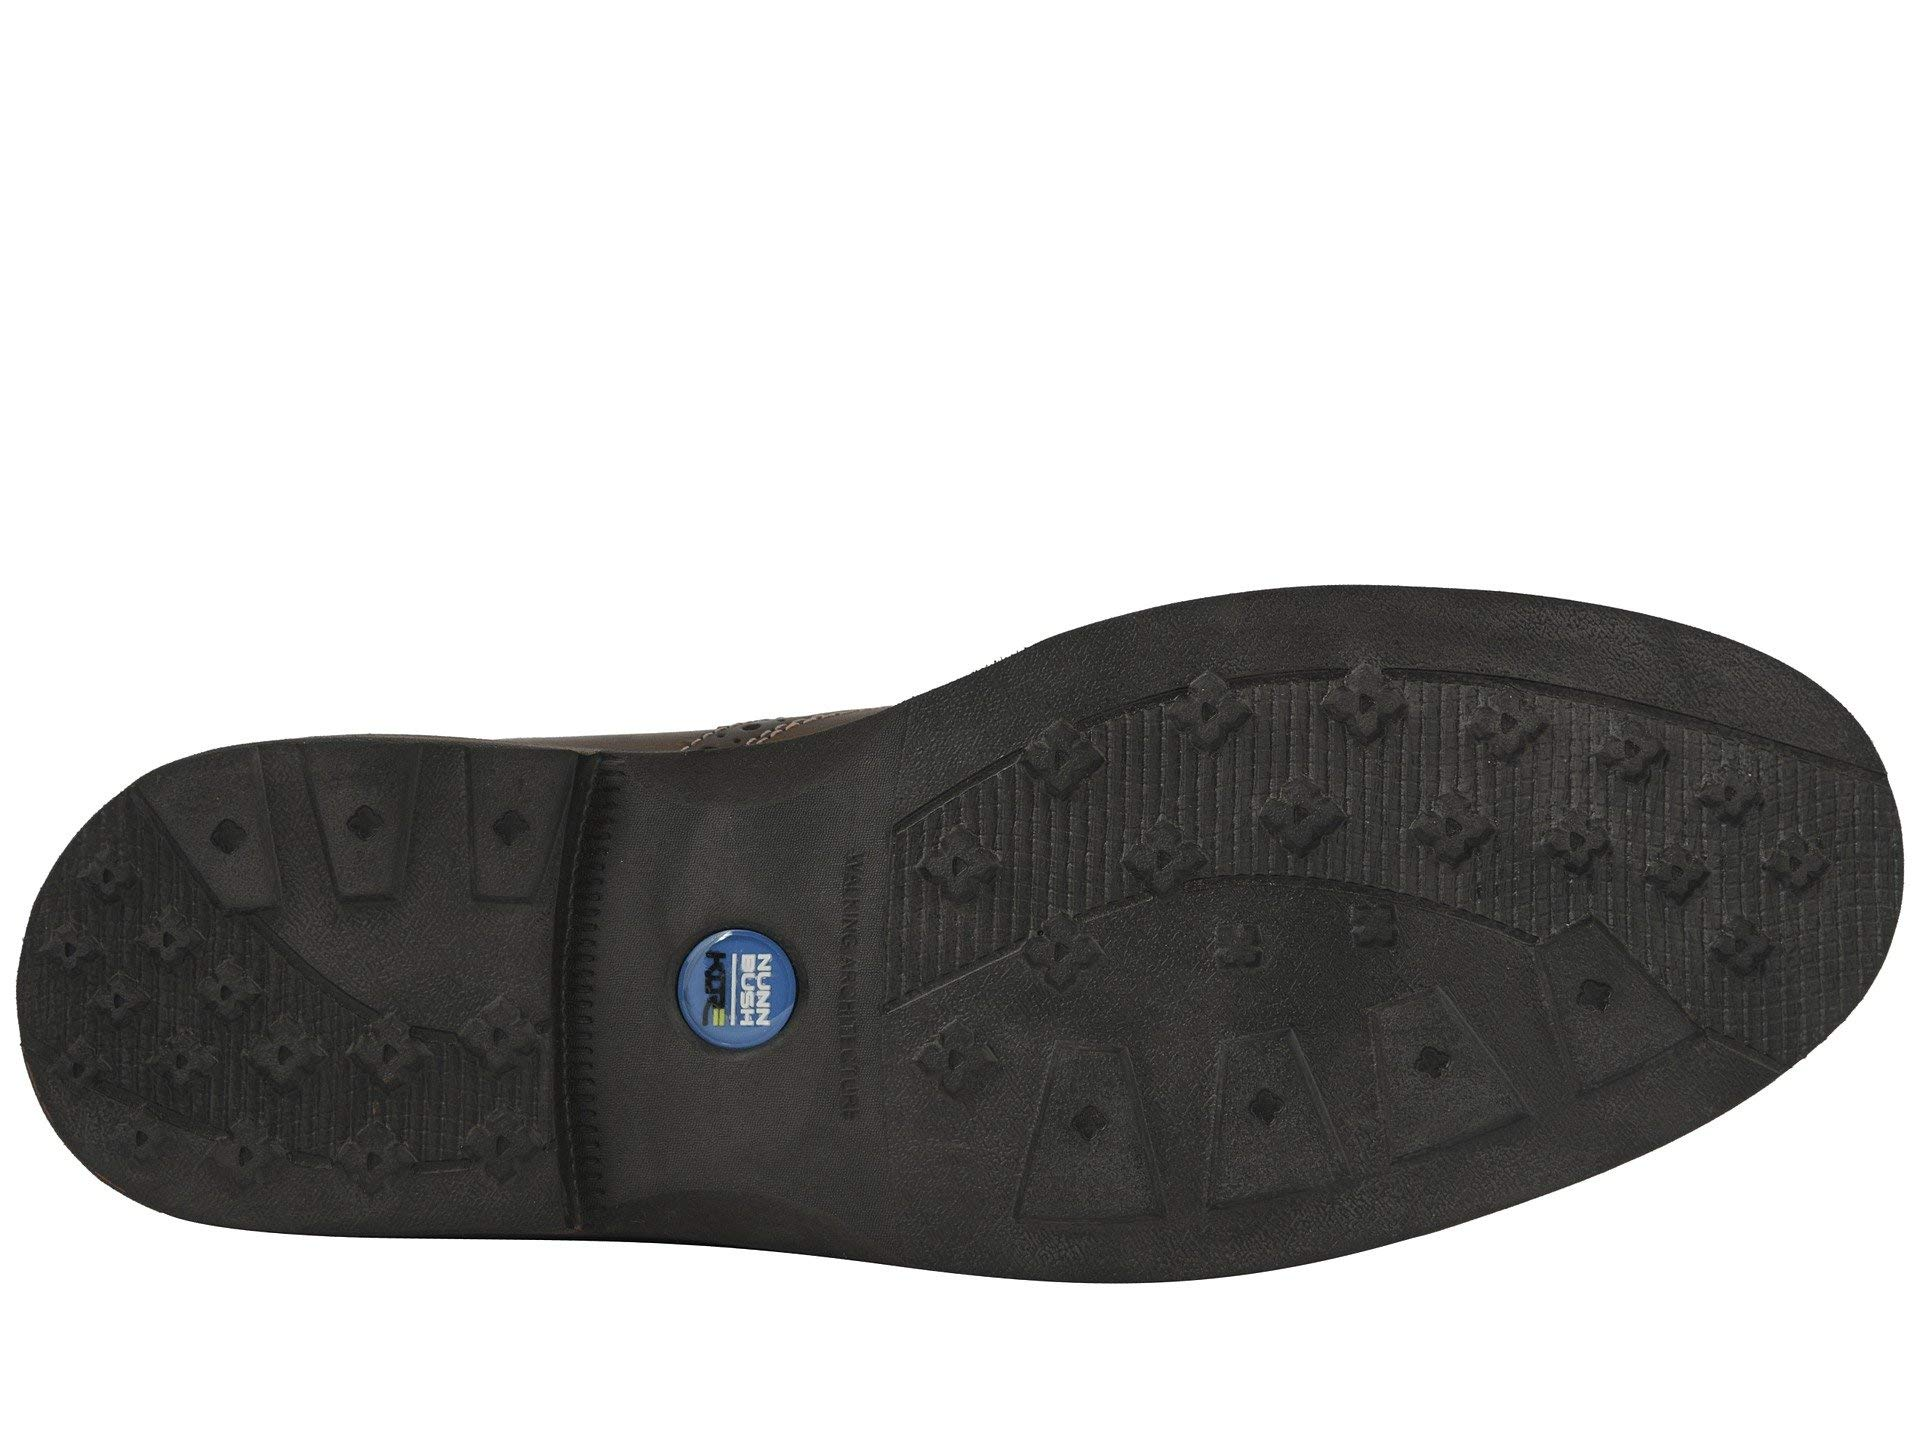circle: (928, 670, 1731, 924), (909, 932, 1541, 1216), (98, 970, 538, 1210)
quad: (928, 670, 1731, 924), (909, 932, 1541, 1216), (98, 970, 538, 1210)
